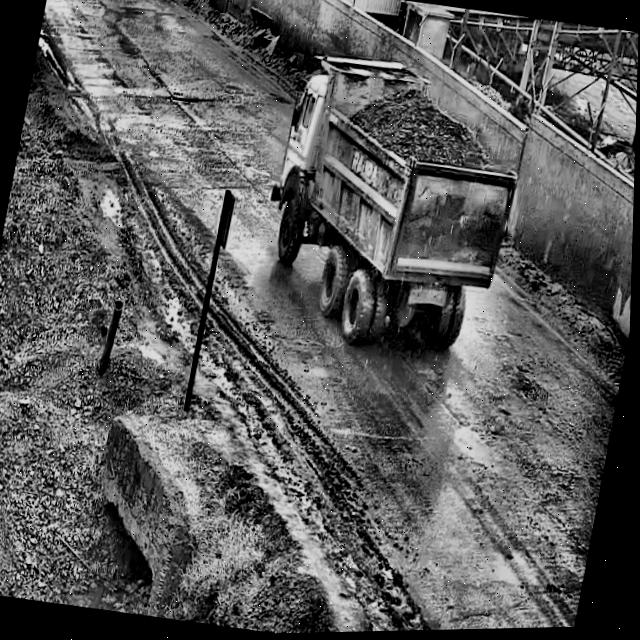dump_truck: (246, 22, 541, 401)
